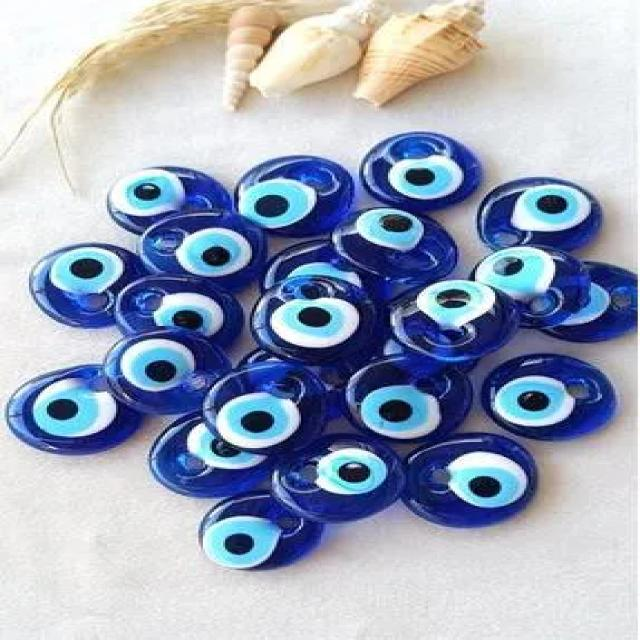Nazar-Boncugu: (479, 354, 615, 441), (361, 135, 479, 213)
